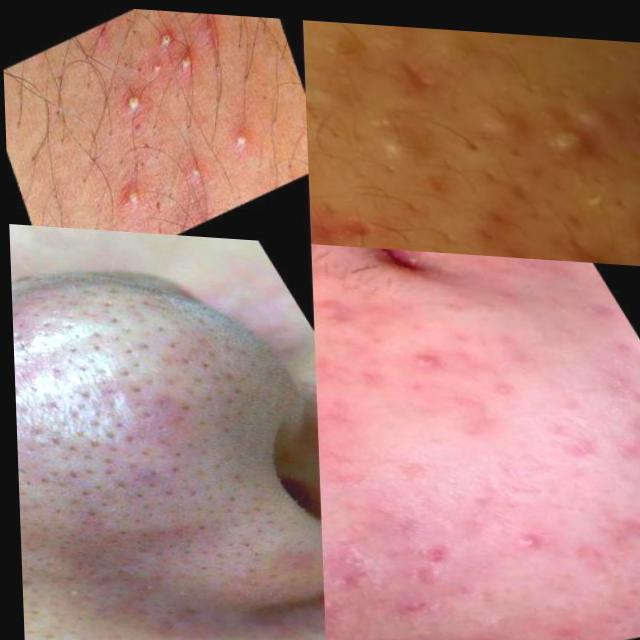7: (124, 566, 200, 611), (42, 568, 96, 615)
8: (318, 554, 385, 603)
9: (490, 509, 565, 562), (472, 90, 542, 140), (535, 107, 606, 153), (367, 118, 437, 161), (538, 228, 629, 257), (399, 335, 450, 374), (617, 155, 640, 200)
blackheads: (390, 523, 457, 573), (317, 531, 337, 597)
dark spot: (136, 311, 262, 415), (81, 373, 206, 470), (161, 502, 278, 586), (40, 317, 156, 397), (18, 452, 128, 531), (14, 405, 116, 474), (61, 514, 160, 584), (124, 451, 220, 519), (33, 274, 129, 339), (10, 346, 82, 429), (14, 489, 63, 582), (8, 291, 54, 359)
whiteheads: (114, 170, 148, 218), (223, 116, 254, 157), (116, 79, 148, 117), (171, 41, 199, 75), (144, 45, 169, 82), (180, 154, 208, 183), (151, 22, 176, 53)
